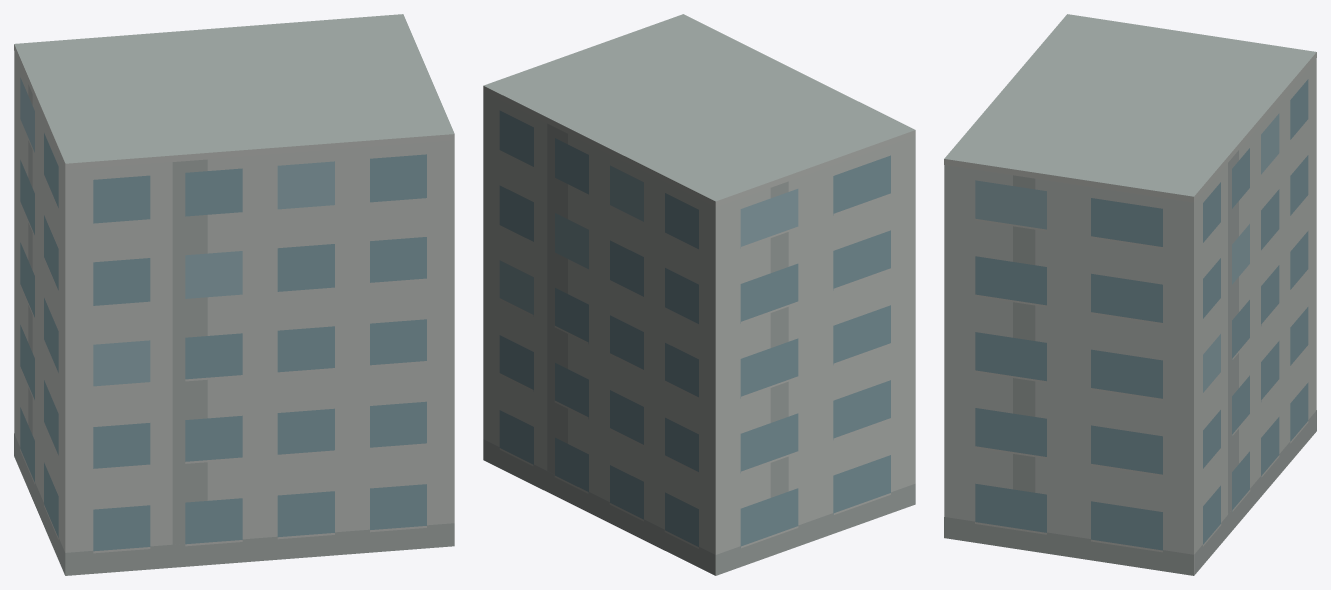
File: residential-74158faf-8bd8-4b22-b67e-2114810a24ea.glb
3 views of the same model, side by side, from view 1: azimuth 30°, elevation 25°; view 2: azimuth 150°, elevation 25°; view 3: azimuth 270°, elevation 25° (orthographic). The views are drawn at different scales.
Parts seen in each view (by area): view 1: residential-74158faf-8bd8-4b22-b67e-2114810a24ea.tmp; view 2: residential-74158faf-8bd8-4b22-b67e-2114810a24ea.tmp; view 3: residential-74158faf-8bd8-4b22-b67e-2114810a24ea.tmp.
Part boxes in pixels (bbox=[...]): residential-74158faf-8bd8-4b22-b67e-2114810a24ea.tmp: bbox=[14, 14, 454, 575]; residential-74158faf-8bd8-4b22-b67e-2114810a24ea.tmp: bbox=[483, 14, 915, 575]; residential-74158faf-8bd8-4b22-b67e-2114810a24ea.tmp: bbox=[944, 14, 1316, 575].
Bounding box in the file's own units: 15.77 × 15.25 × 13.59.
